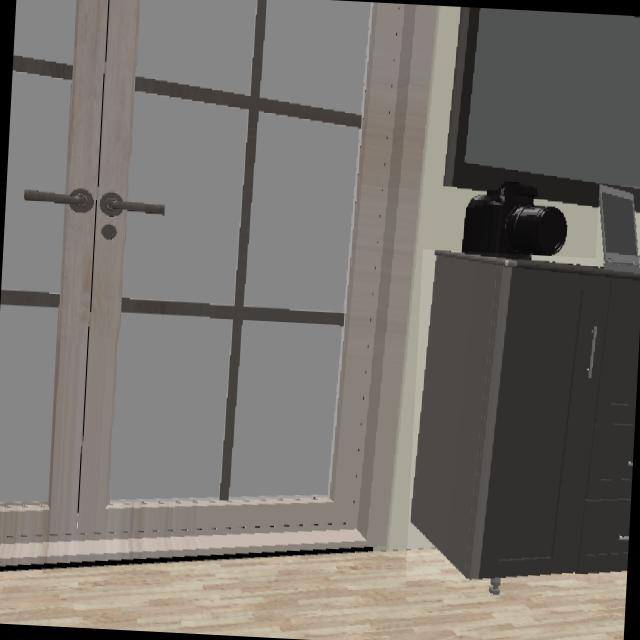cabinet: (408, 250, 640, 582)
laptop: (600, 185, 639, 268)
